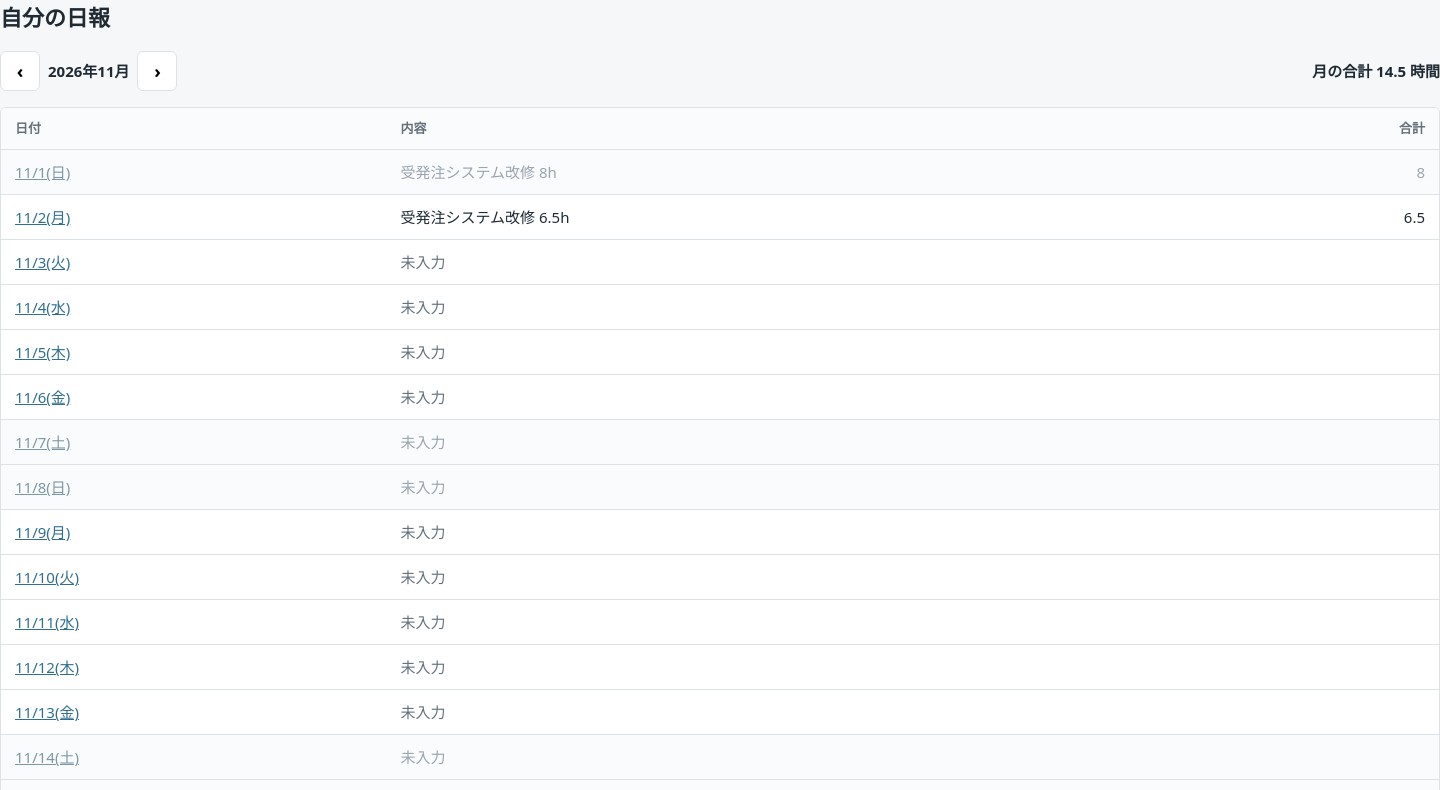
Test: 「未入力」の日を押すと、その日に新しく追加できる
Expected: the text "月の合計 14.5 時間" is shown, 1312,59 -> 1439,83
Click the button named "前の月" at x=20, y=71, box 0,51 -> 40,91
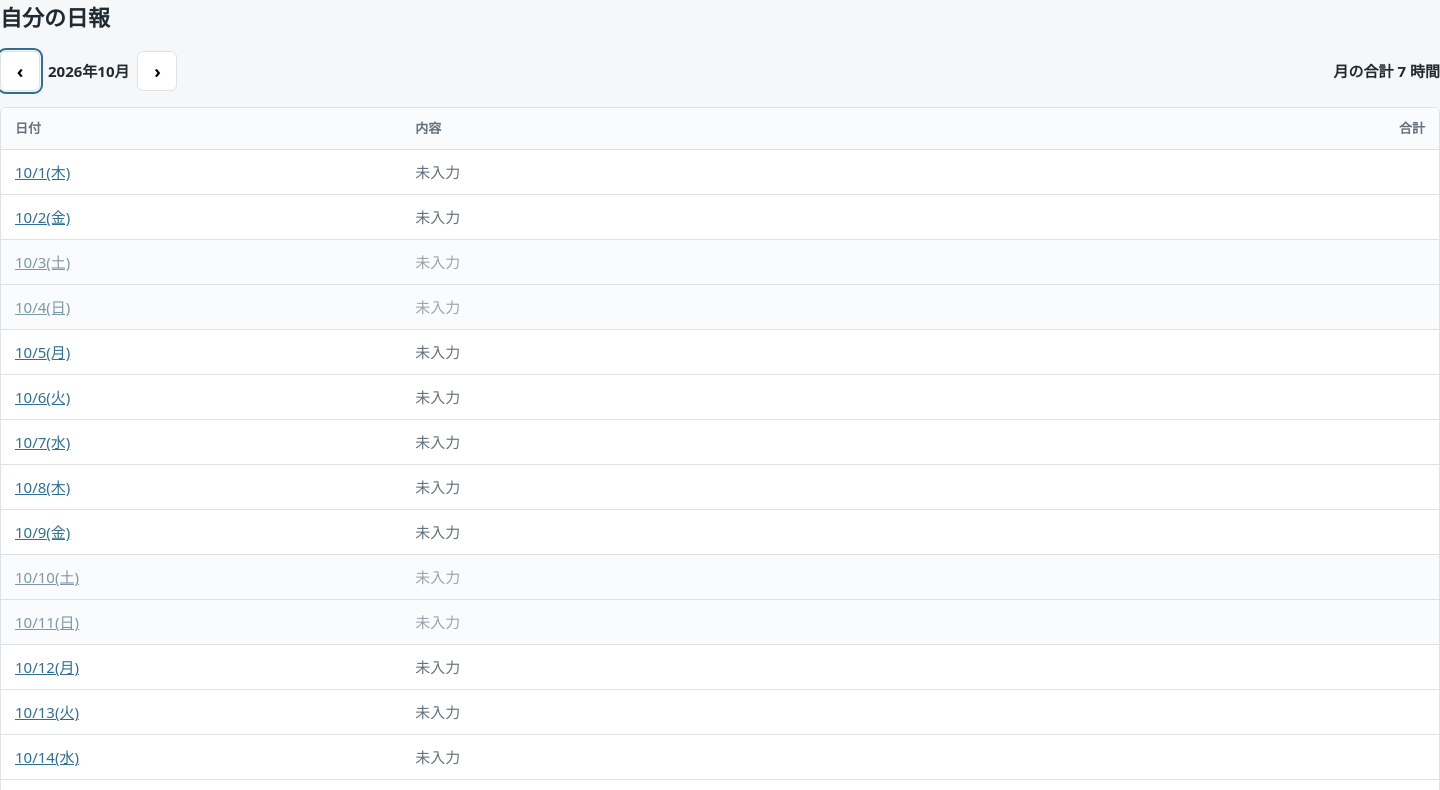
Click the button "10/3(土)" at x=43, y=262, box 15,250 -> 70,274
(page scrolled)
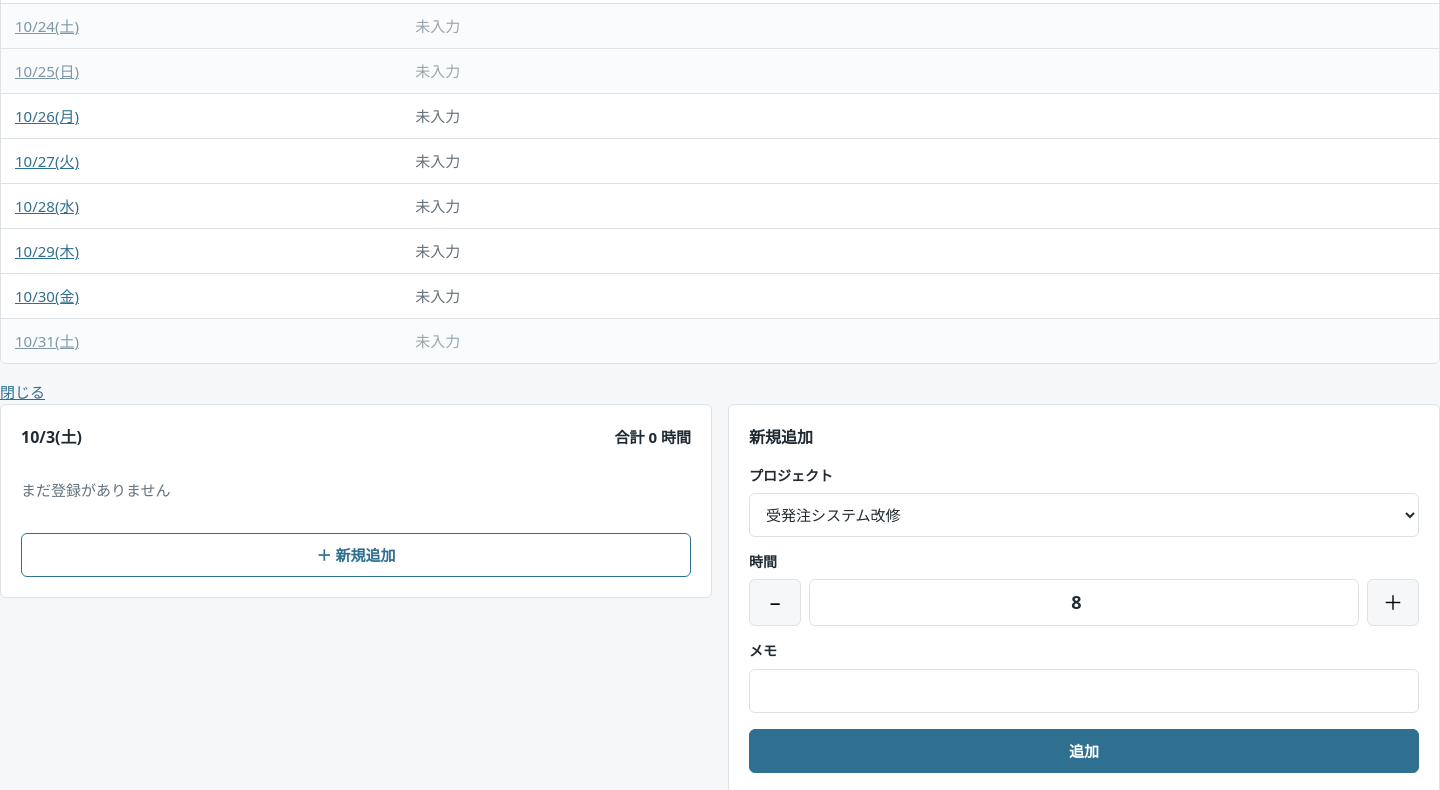
Now the heading "新規追加" is shown, box 749,426 -> 813,448
Click the button "追加" at x=1084, y=750, box 749,728 -> 1419,772
(page scrolled)
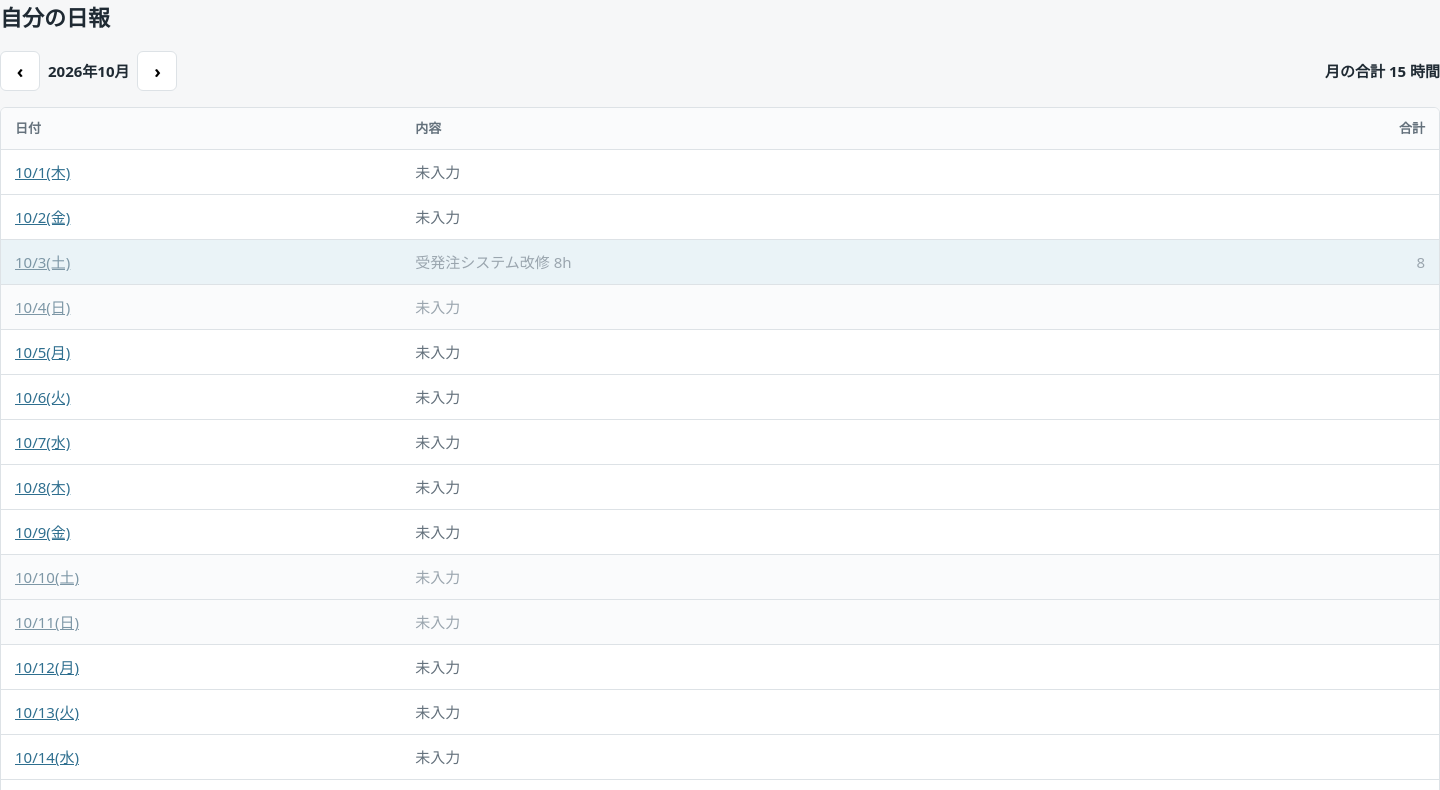
Now the text "受発注システム改修 8h" is shown, box 401,240 -> 1204,284
